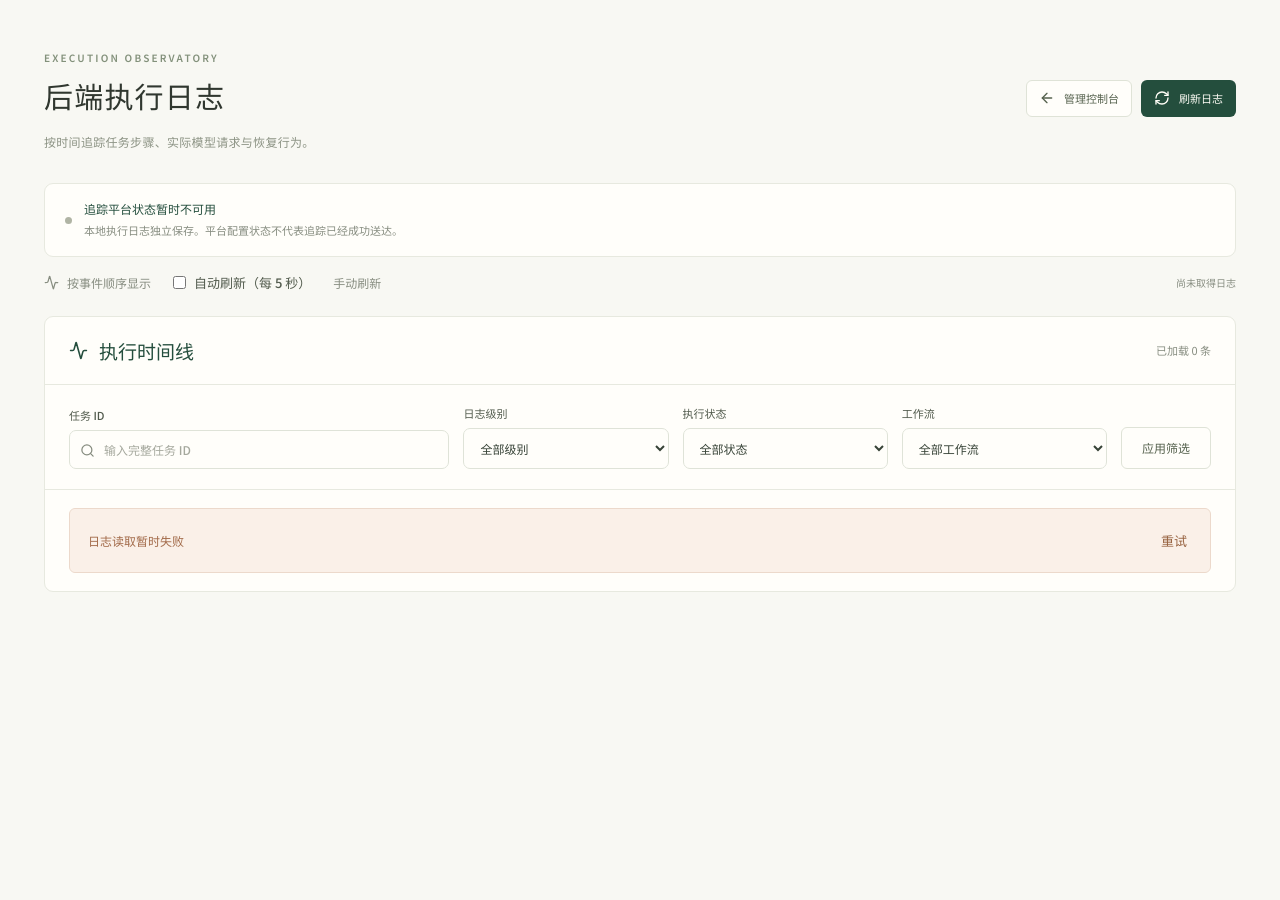
Test: admin execution logs › keeps a retry action for an initial failure and a clear empty state
Click the button "重试" at (1174, 541), box [1156,524,1192,557]
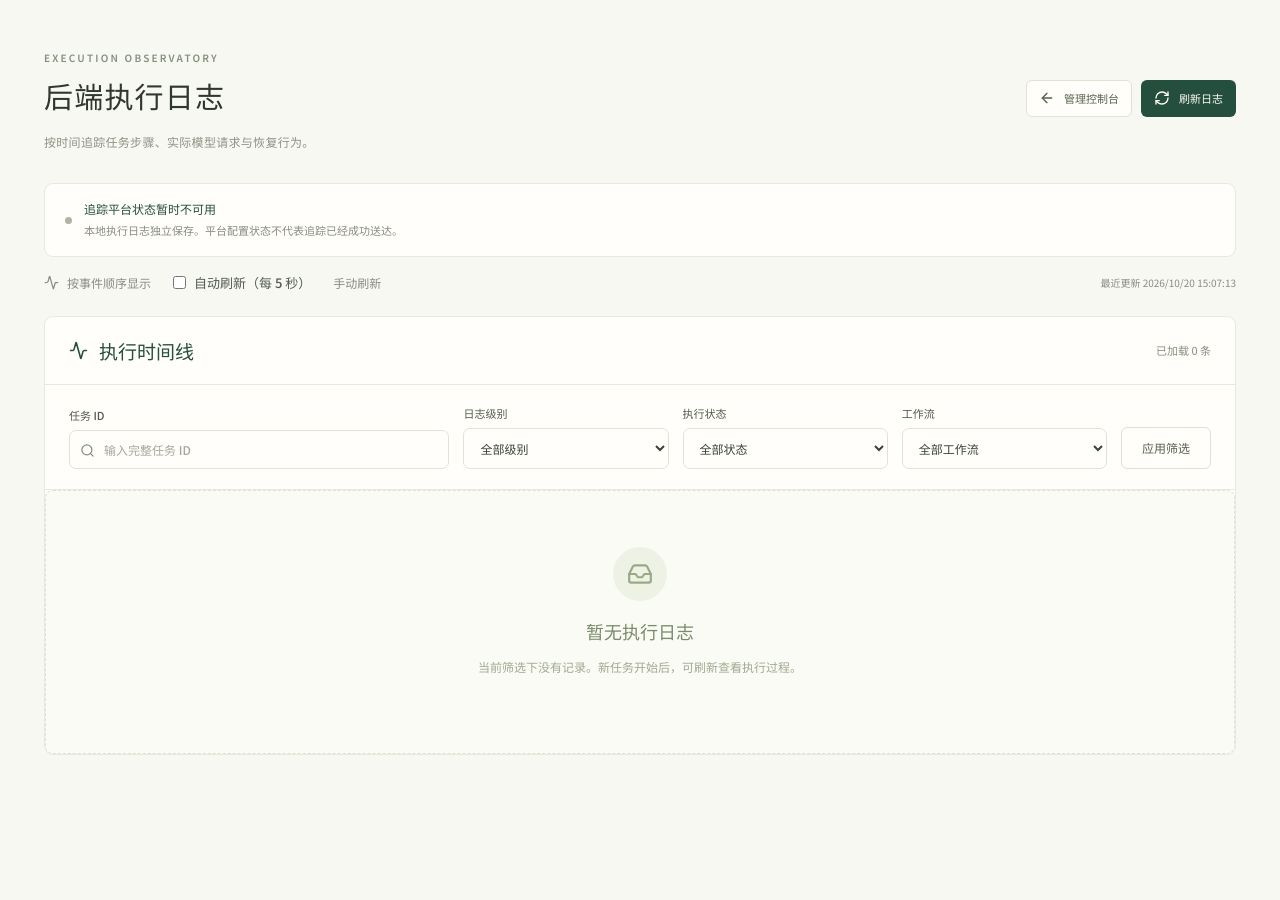
Expected: the text "追踪平台状态暂时不可用" is shown, [84,200,216,217]
Expected: the text "暂无执行日志" is shown, [586,623,694,643]
